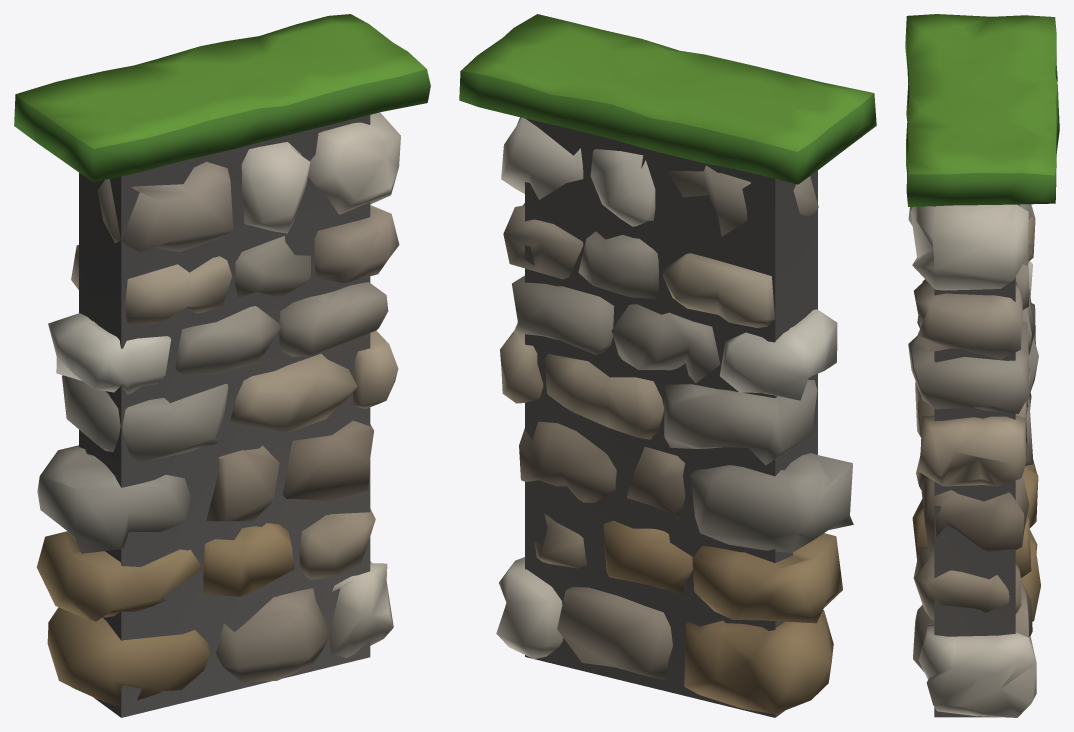
File: glade_retaining_seg_e.glb
3 views of the same model, side by side, from view 1: azimuth 30°, elevation 25°; view 2: azimuth 150°, elevation 25°; view 3: azimuth 270°, elevation 25° (orthographic). The views are drawn at different scales.
Visible parts, largest first — view 1: glade_retaining_seg_e; view 2: glade_retaining_seg_e; view 3: glade_retaining_seg_e.
Boxes of the visible parts, box(x1,y1,x2,y2) form: glade_retaining_seg_e: box(14, 14, 430, 717); glade_retaining_seg_e: box(459, 14, 876, 717); glade_retaining_seg_e: box(905, 14, 1059, 717).
Bounding box in the file's own units: 5.21 × 8.65 × 2.13.
